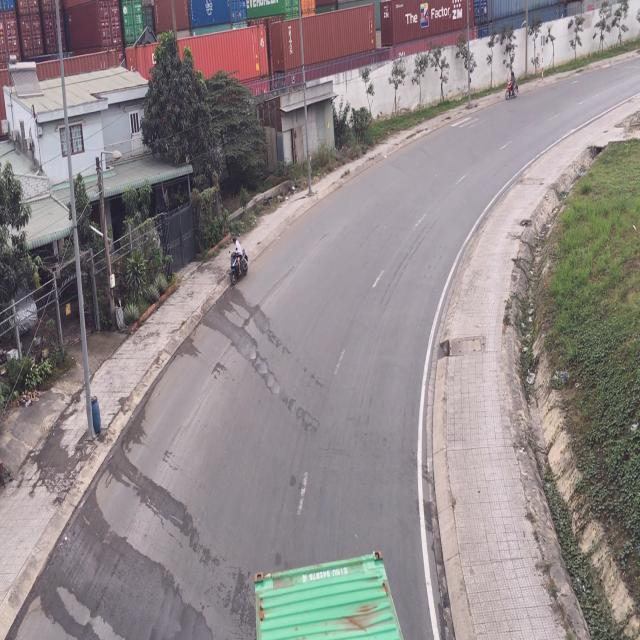motorbike: (230, 236, 250, 286), (505, 71, 518, 102)
truck: (248, 551, 404, 640)
